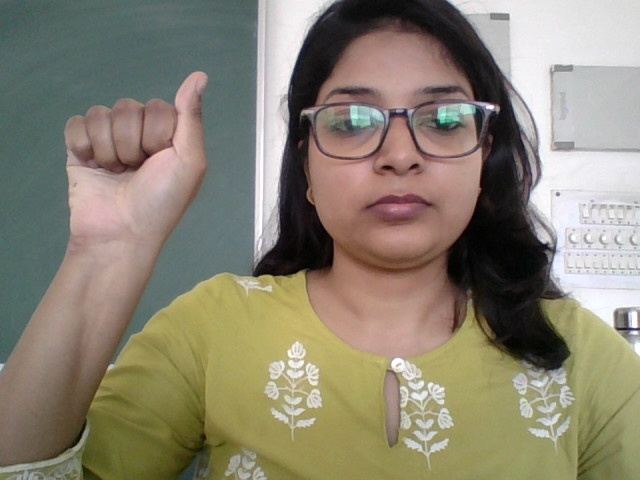A: (56, 67, 213, 255)
